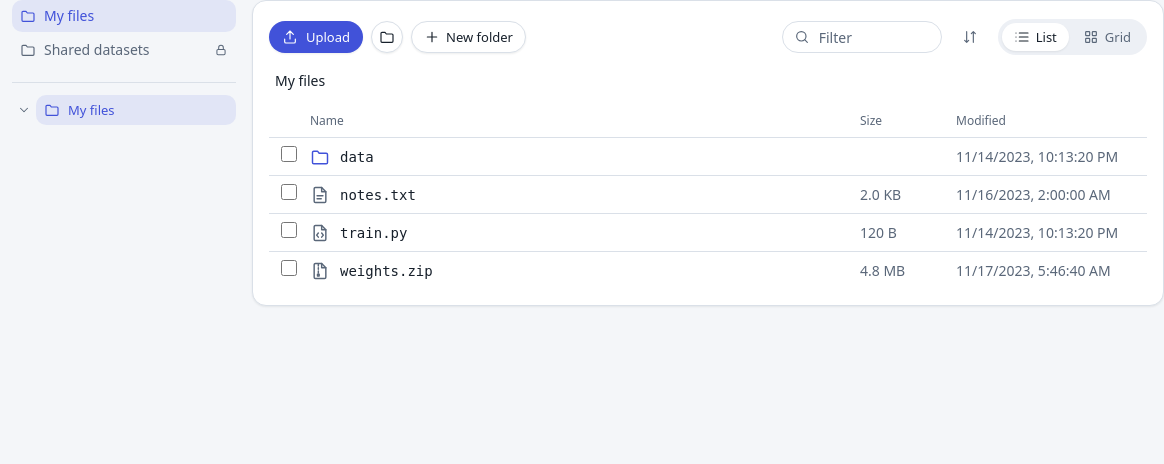
Test: Files workspace › offers Extract when the selection is archives
Step 1. Click the checkbox named "Select weights.zip" → (289, 268), box [281,260,297,276]
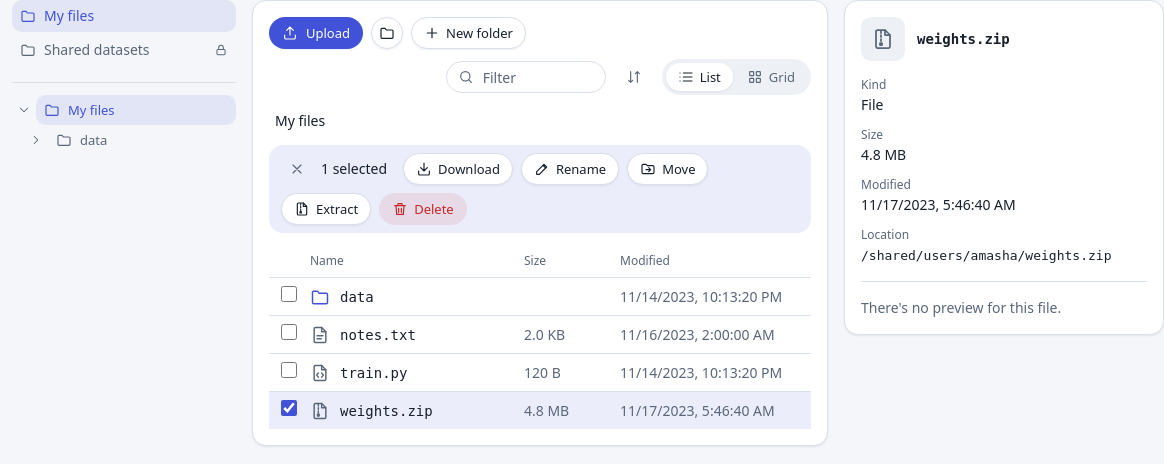
Expected: the button "Extract" is shown, [281,193,371,225]
